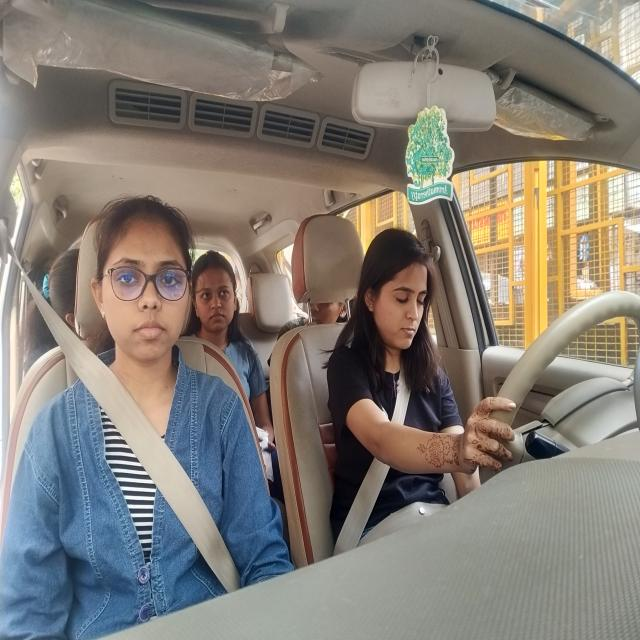drowsy: (362, 225, 432, 366)
person: (95, 188, 194, 366), (191, 249, 241, 342), (306, 297, 350, 323)
